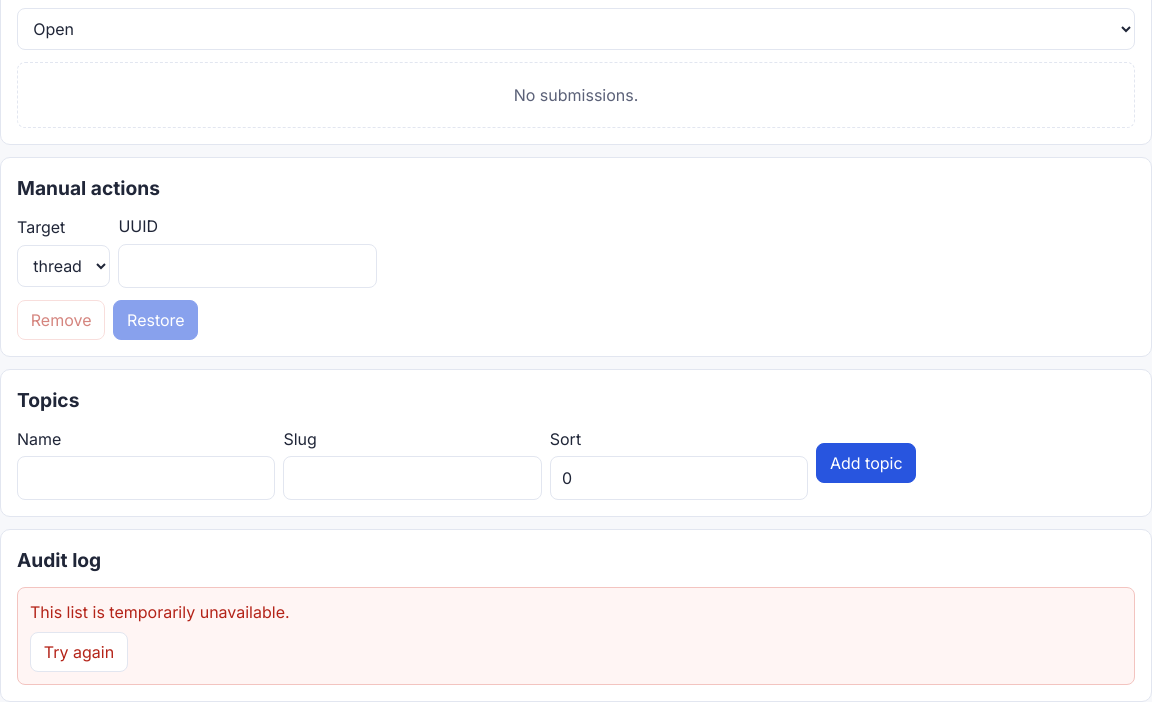
Scenario: recovers admin audit reads without falsely claiming the list is empty
This screenshot has width=1152, height=702.
(page scrolled)
Expected: the message shows "This list is temporarily unavailable.", 30,602 -> 290,622
Expected: the text "No actions." is not shown
Click the button "Try again" at (79, 652), box 30,632 -> 128,672
(page scrolled)
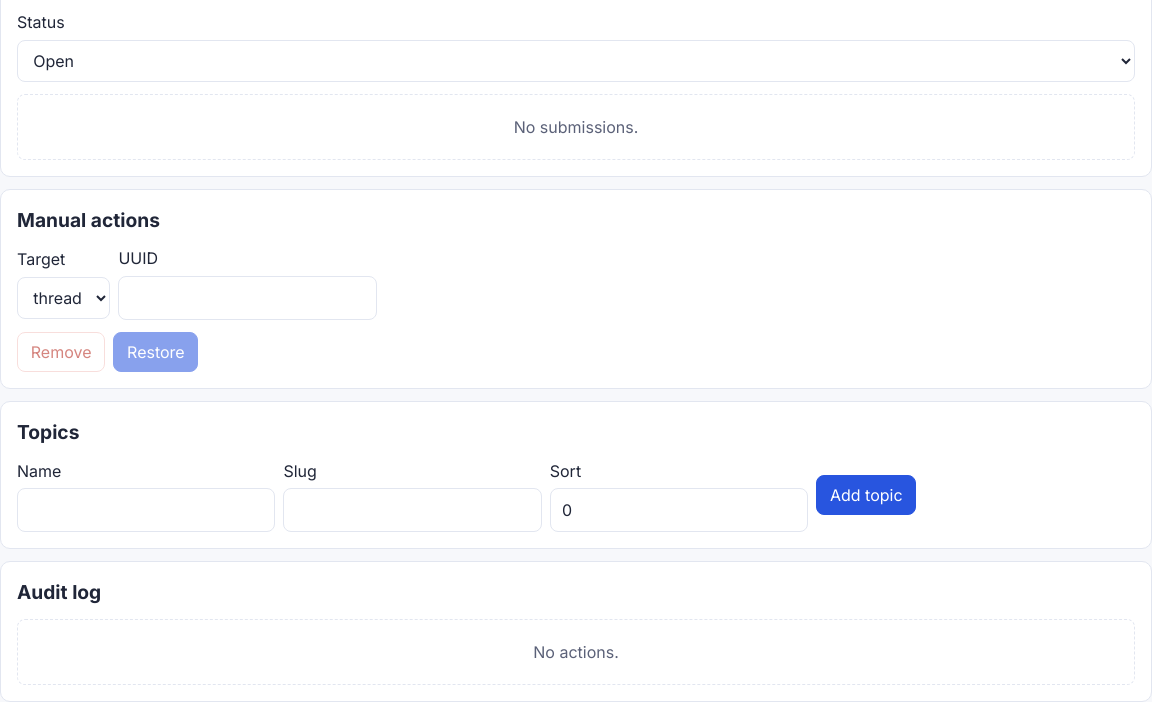
Result: the text "No actions." is shown at 17,619 -> 1135,685
Result: the message "This list is temporarily unavailable. Try again" is gone
